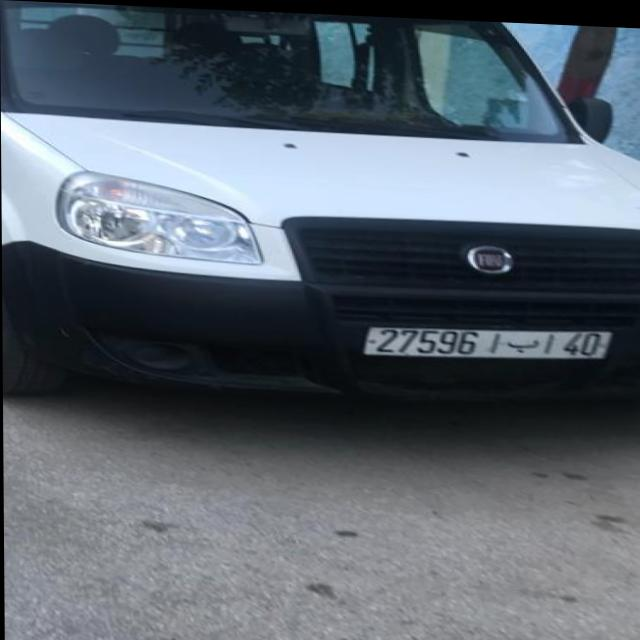License-Plate: (365, 325, 611, 354)
